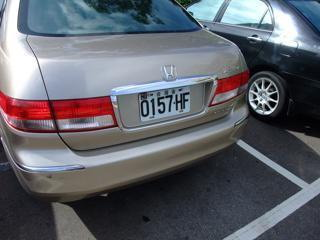plate: (137, 89, 193, 120)
